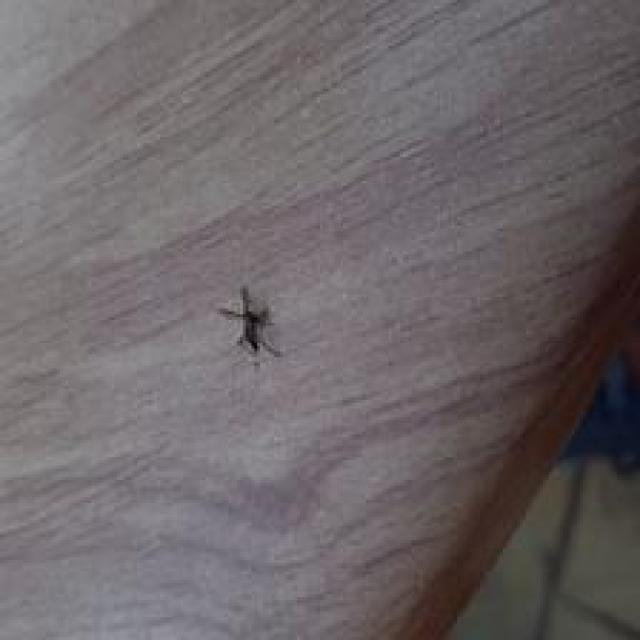Aedes albopictus: (217, 284, 283, 364)
